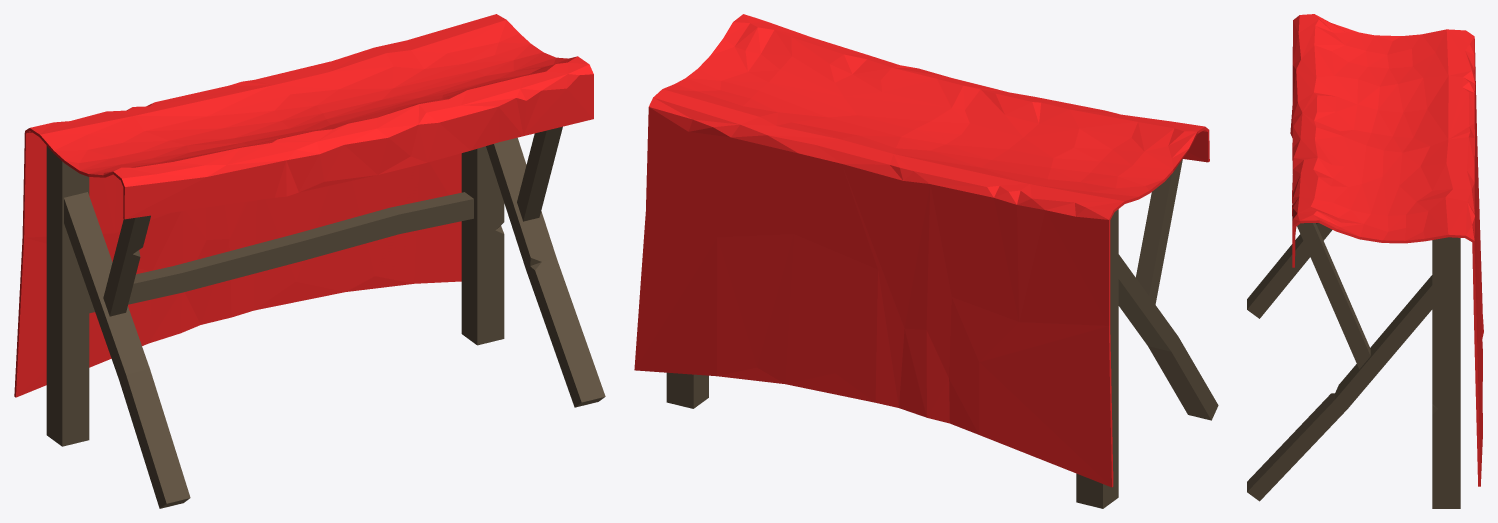
The model's file is stand_d.FBX.
3 views of the same model, side by side, from view 1: azimuth 30°, elevation 25°; view 2: azimuth 150°, elevation 25°; view 3: azimuth 270°, elevation 25° (orthographic). The views are drawn at different scales.
Visible parts, largest first — view 1: stand_d; view 2: stand_d; view 3: stand_d.
Boxes of the visible parts, <box> form: stand_d: <box>14,14,605,508</box>; stand_d: <box>634,14,1218,508</box>; stand_d: <box>1247,14,1483,508</box>.
Bounding box in the file's own units: 4.64 × 2.99 × 2.18.
